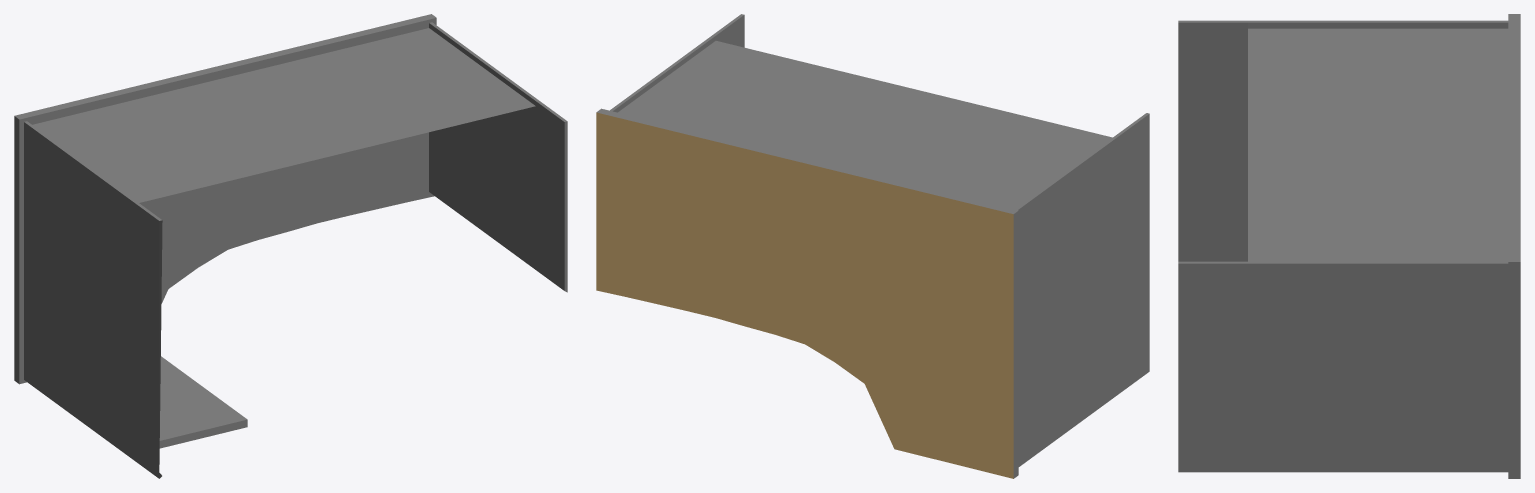
3 views of the same model, side by side, from view 1: azimuth 30°, elevation 25°; view 2: azimuth 150°, elevation 25°; view 3: azimuth 270°, elevation 25° (orthographic). The views are drawn at different scales.
Visible parts, largest first — view 1: Cube; view 2: Cube; view 3: Cube.
Part boxes in pixels (x1,y1,x2,y2): Cube: [14, 14, 567, 478]; Cube: [596, 14, 1149, 478]; Cube: [1178, 14, 1520, 478].
Size of the model in its own units: 140 by 84.84 by 81.68.
